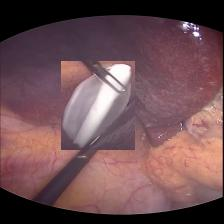Grasper: (71, 115, 134, 153)
Hook: (61, 60, 135, 149)
